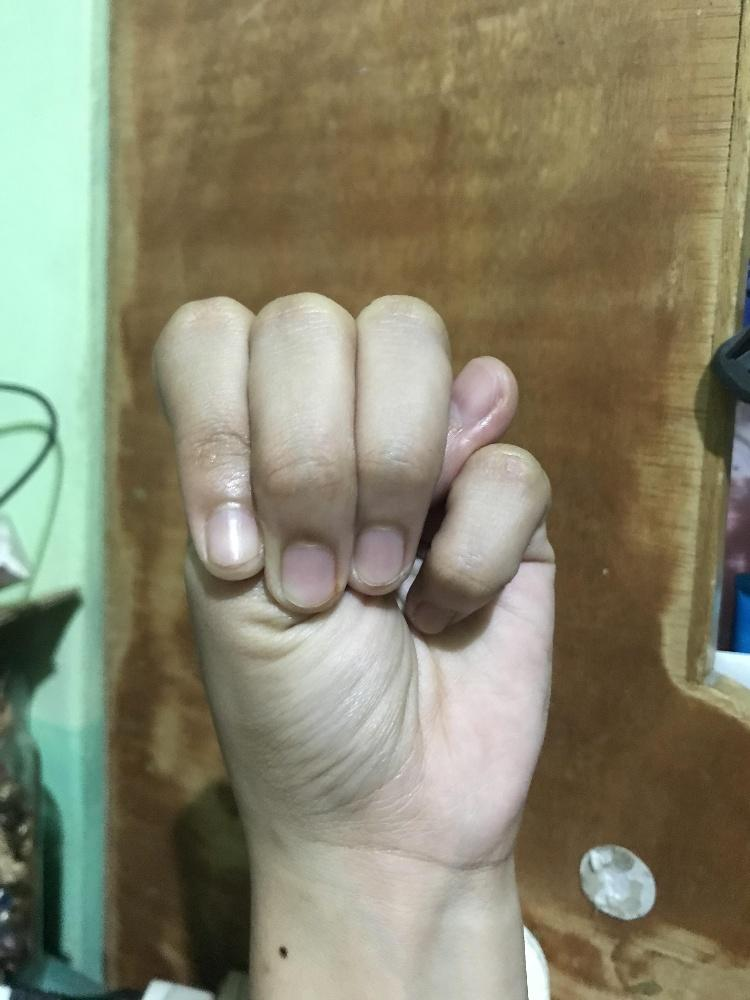m: (145, 288, 557, 871)
